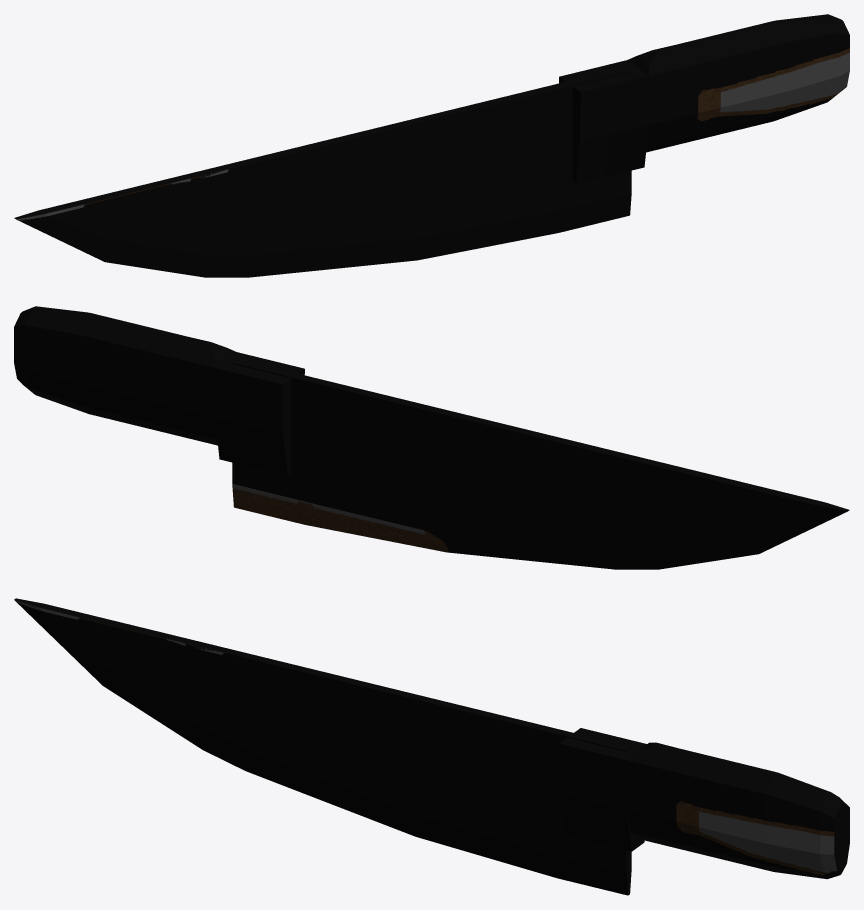
File: knife.fbx
3 renders of one model, top to bottom at view 1: azimuth 30°, elevation 25°; view 2: azimuth 150°, elevation 25°; view 3: azimuth 330°, elevation 25°, orthographic.
Parts seen in each view (by area): view 1: Knife_Baked; view 2: Knife_Baked; view 3: Knife_Baked.
Part boxes in pixels (<box>): Knife_Baked: <box>14,14,849,277</box>; Knife_Baked: <box>14,306,849,569</box>; Knife_Baked: <box>14,598,849,895</box>.
Size of the model in its own units: 22 by 4 by 1.
Materials: 1 (1 with a texture image).
